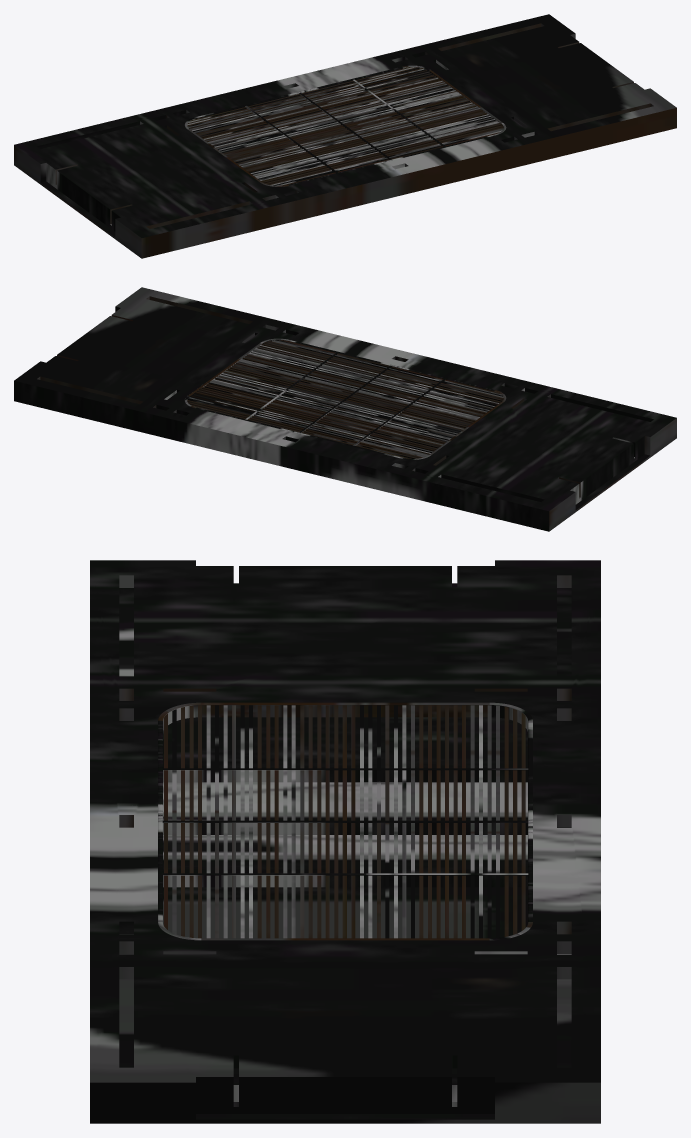
The model's file is SM_MetalFloor22.gltf.
3 views of the same model, one above another, from view 1: azimuth 30°, elevation 25°; view 2: azimuth 150°, elevation 25°; view 3: azimuth 270°, elevation 25° (orthographic). The views are drawn at different scales.
Visible parts, largest first — view 1: SM_MetalFloor22; view 2: SM_MetalFloor22; view 3: SM_MetalFloor22.
Boxes of the visible parts, <box> form: SM_MetalFloor22: <box>14,14,676,258</box>; SM_MetalFloor22: <box>14,287,676,531</box>; SM_MetalFloor22: <box>90,560,600,1123</box>.
Size of the model in its own units: 4.95 by 0.1817 by 2.05.
1 material, 1 textured.
